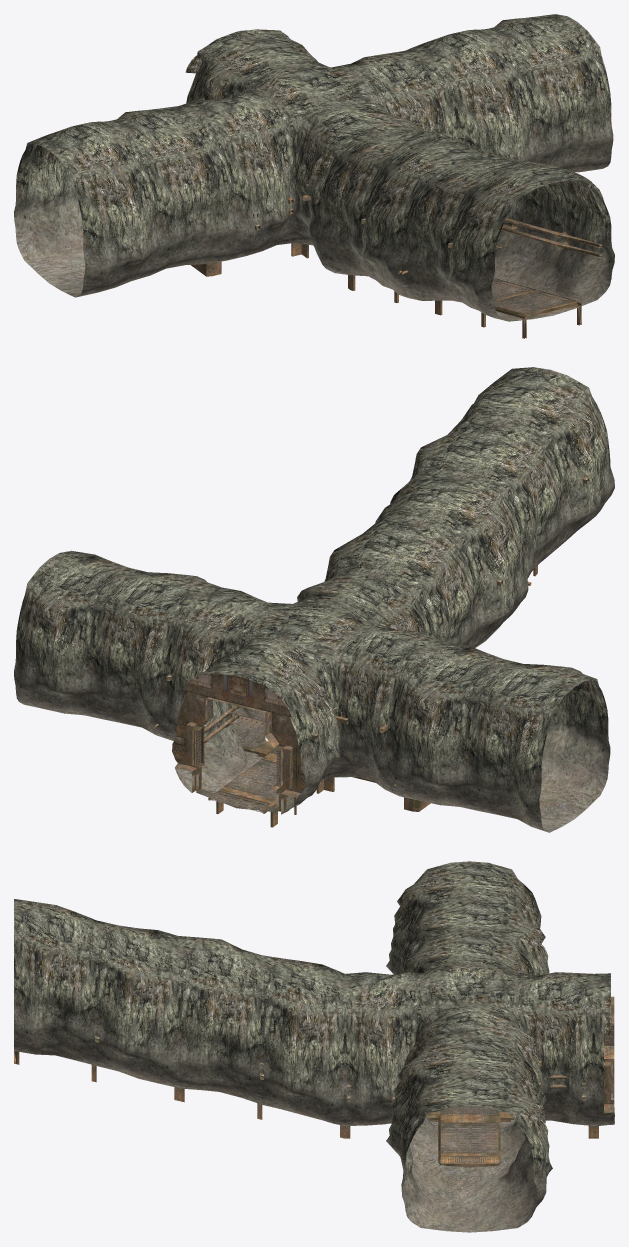
Rendered from poi_all_bunker_mad_bio_s01_r12_intersection2_mesh_r12.fbx.
3 views of the same model, one above another, from view 1: azimuth 30°, elevation 25°; view 2: azimuth 150°, elevation 25°; view 3: azimuth 270°, elevation 25° (orthographic). The views are drawn at different scales.
Parts seen in each view (by area): view 1: mesh_node; view 2: mesh_node; view 3: mesh_node.
Boxes of the visible parts, left/top/right/bottom form: mesh_node: left=14, top=14, right=614, bottom=338; mesh_node: left=14, top=367, right=614, bottom=832; mesh_node: left=14, top=861, right=614, bottom=1232.
Size of the model in its own units: 28 by 11.55 by 29.03.
